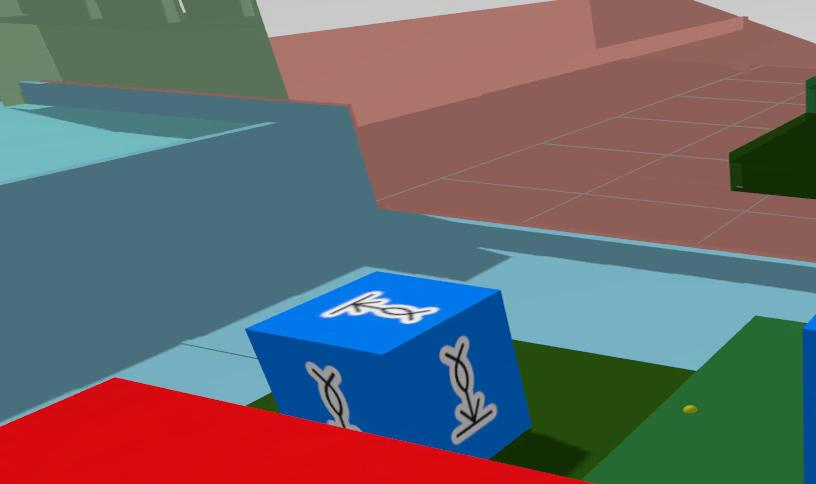KFS_FAKE: (0, 380, 595, 484)
KFS_REAL: (248, 271, 531, 458), (439, 336, 497, 444), (321, 291, 439, 323), (306, 363, 360, 429), (803, 314, 816, 484)
